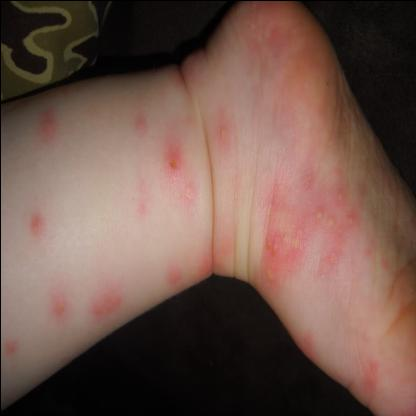Fire ant: (258, 201, 306, 261), (88, 290, 124, 318), (314, 212, 356, 234), (132, 178, 150, 218), (26, 211, 48, 237), (196, 256, 224, 276), (36, 106, 54, 136), (0, 336, 18, 362), (161, 149, 181, 171), (50, 295, 68, 319), (364, 361, 378, 389), (131, 110, 147, 132), (166, 265, 181, 286), (301, 333, 316, 353), (323, 247, 338, 267), (216, 122, 228, 146), (180, 186, 196, 204), (333, 188, 344, 204), (266, 268, 276, 284), (360, 246, 372, 259), (380, 258, 390, 268)
